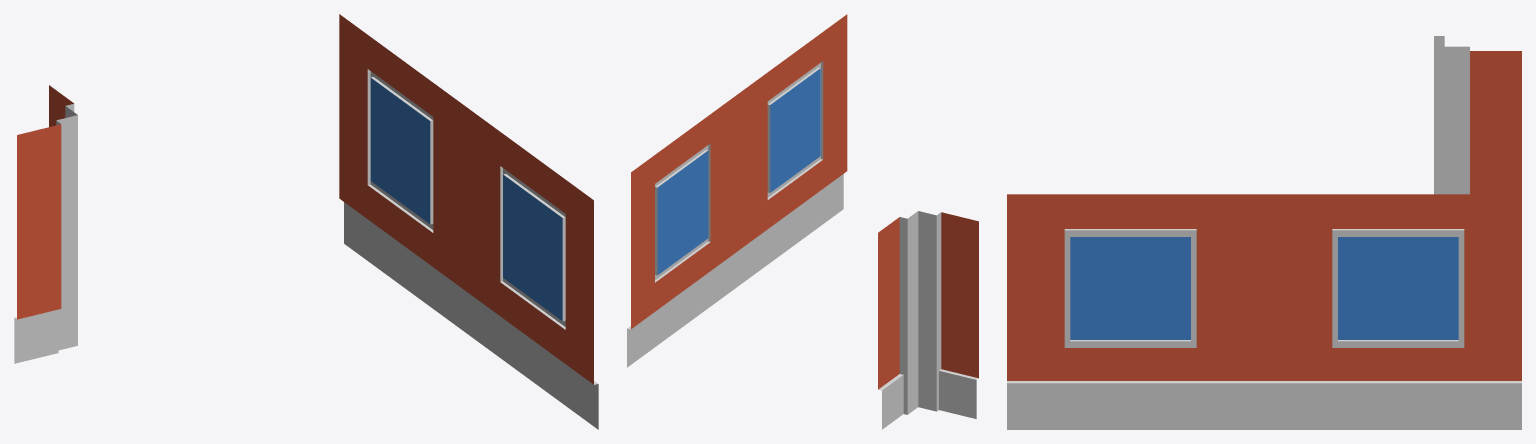
3 renders of one model, left to right at view 1: azimuth 30°, elevation 25°; view 2: azimuth 150°, elevation 25°; view 3: azimuth 270°, elevation 25°, orthographic. The views are drawn at different scales.
Parts seen in each view (by area): view 1: 06a_Base; view 2: 06a_Base; view 3: 06a_Base.
Boxes of the visible parts, x1,y1,x2,y2 form: 06a_Base: [14, 14, 598, 429]; 06a_Base: [627, 14, 978, 429]; 06a_Base: [1007, 36, 1521, 429].
Size of the model in its own units: 41.99 by 25 by 50.
